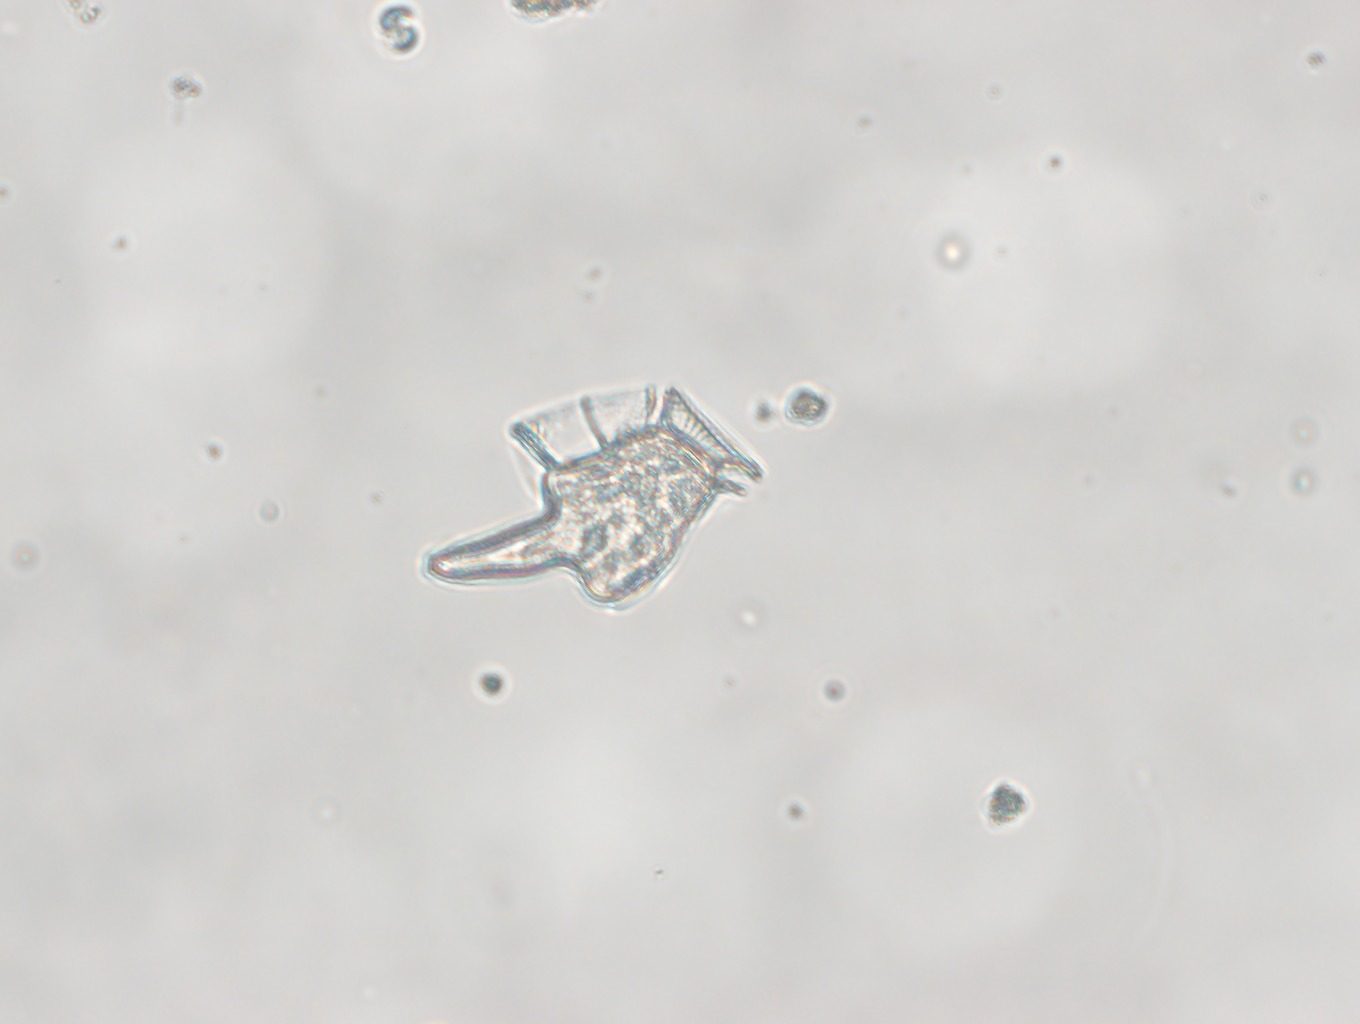dinophysis caudata: (420, 379, 762, 613)
